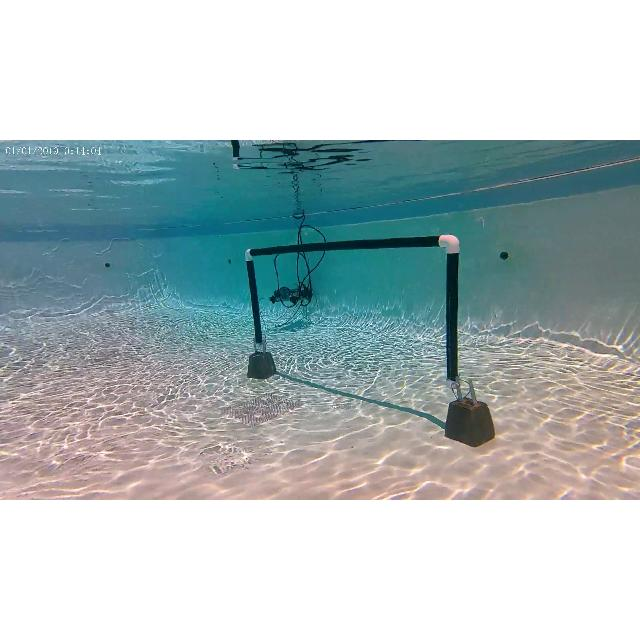prequal gate: (244, 235, 461, 392)
prequal gate leg l: (240, 250, 278, 380)
prequal gate leg r: (427, 236, 497, 450)
